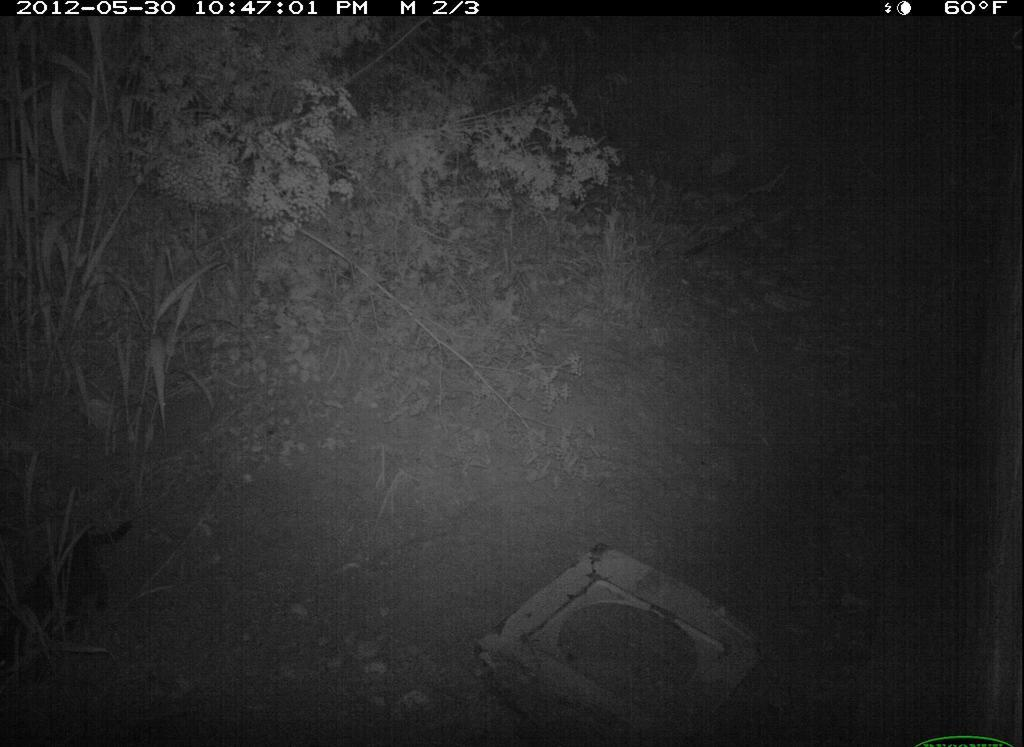cat: (9, 511, 149, 678)
